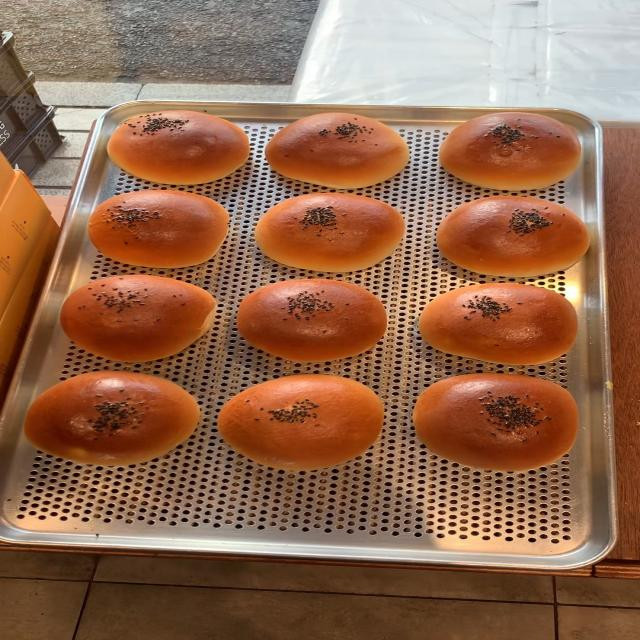bread: (23, 372, 200, 464), (413, 375, 578, 469), (221, 376, 382, 472), (419, 280, 582, 367), (60, 276, 222, 363), (436, 194, 590, 280), (237, 278, 390, 364), (254, 194, 407, 274), (85, 190, 231, 270), (438, 112, 582, 192), (267, 110, 412, 188), (104, 106, 248, 182)
